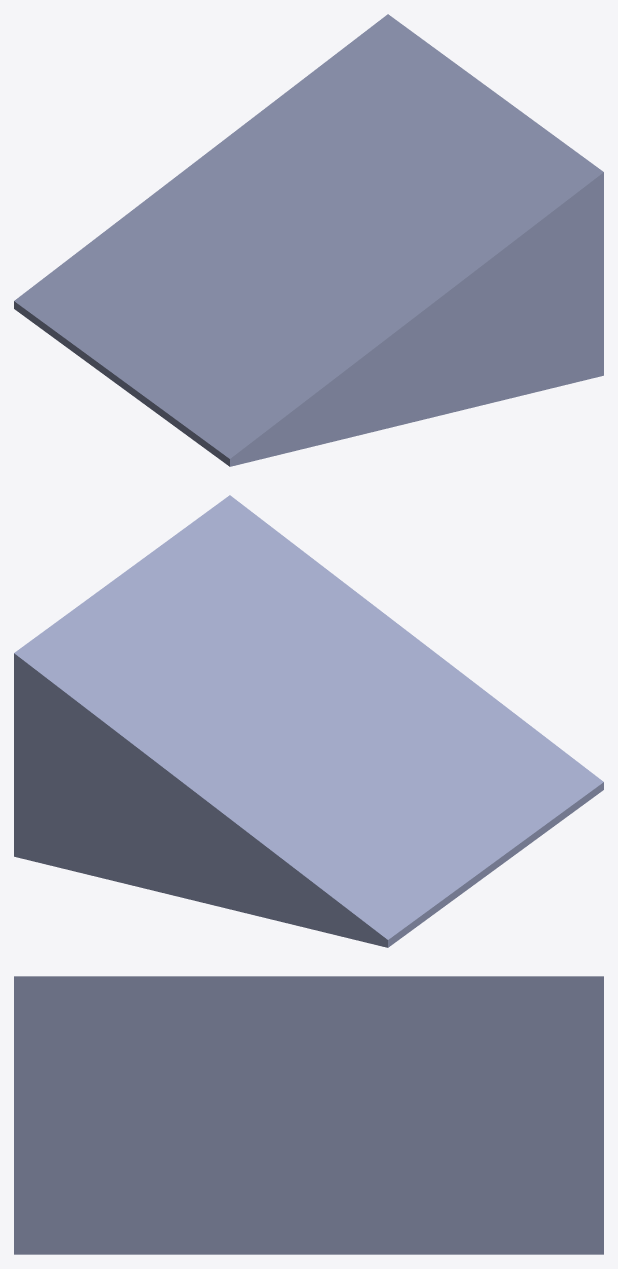
File: tile-slanthigh.glb
3 renders of one model, top to bottom at view 1: azimuth 30°, elevation 25°; view 2: azimuth 150°, elevation 25°; view 3: azimuth 270°, elevation 25°, orthographic. The views are drawn at different scales.
Visible parts, largest first — view 1: tile-slantHigh; view 2: tile-slantHigh; view 3: tile-slantHigh.
Part boxes in pixels (x1,y1,x2,y2): tile-slantHigh: (14,14,603,466); tile-slantHigh: (14,495,603,947); tile-slantHigh: (14,976,603,1254).
Bounding box in the file's own units: 1 × 0.52 × 1.
Materials: 1 (1 with a texture image).
